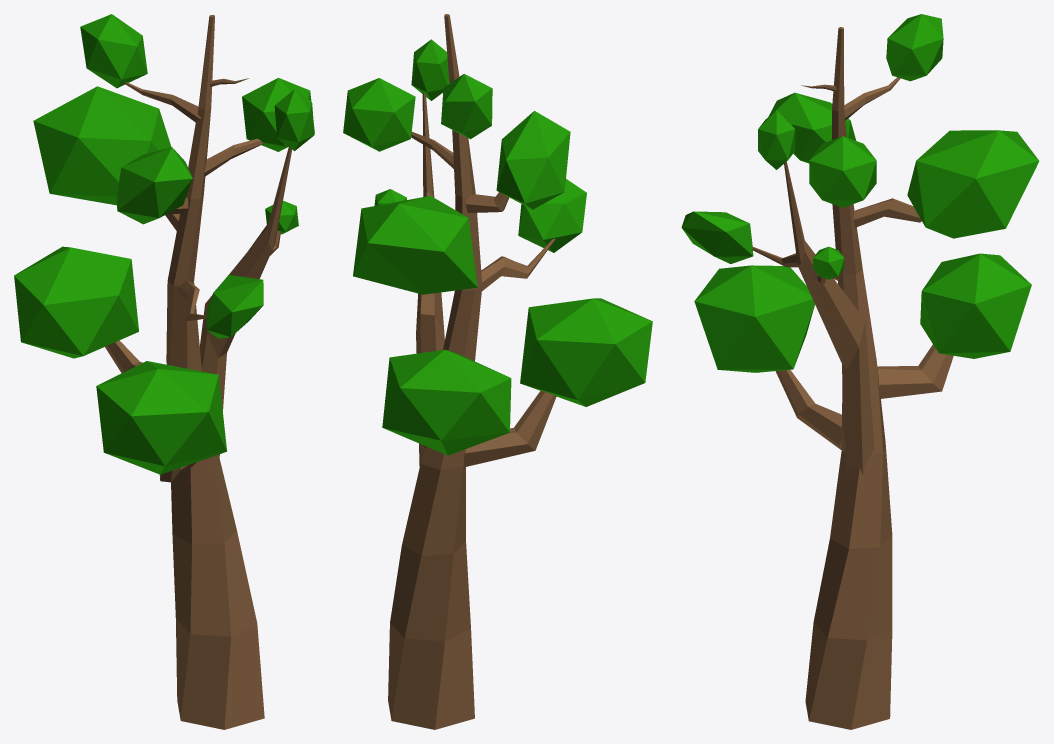
Rendered from LiveTree1.fbx.
3 renders of one model, left to right at view 1: azimuth 30°, elevation 25°; view 2: azimuth 150°, elevation 25°; view 3: azimuth 270°, elevation 25°, orthographic. The views are drawn at different scales.
Parts seen in each view (by area): view 1: Tree.005, Icosphere.053, Icosphere.054, Icosphere.050, Icosphere.048, Icosphere.049, Icosphere.047, Icosphere.051, Icosphere.046, Icosphere.052; view 2: Tree.005, Icosphere.053, Icosphere.054, Icosphere.050, Icosphere.048, Icosphere.051, Icosphere.047, Icosphere.049, Icosphere.046; view 3: Tree.005, Icosphere.050, Icosphere.053, Icosphere.054, Icosphere.051, Icosphere.049, Icosphere.047, Icosphere.048, Icosphere.046, Icosphere.052.
Boxes of the visible parts, x1,y1,x2,y2 form: Tree.005: (105, 15, 291, 729); Icosphere.053: (96, 361, 226, 474); Icosphere.054: (14, 246, 138, 358); Icosphere.050: (33, 86, 171, 205); Icosphere.048: (117, 147, 192, 224); Icosphere.049: (80, 14, 147, 88); Icosphere.047: (206, 275, 263, 338); Icosphere.051: (242, 78, 314, 151); Icosphere.046: (274, 89, 314, 151); Icosphere.052: (265, 200, 298, 234); Tree.005: (388, 14, 556, 729); Icosphere.053: (520, 298, 652, 406); Icosphere.054: (382, 349, 511, 455); Icosphere.050: (353, 196, 477, 294); Icosphere.048: (496, 111, 570, 209); Icosphere.051: (343, 78, 415, 151); Icosphere.047: (518, 179, 586, 252); Icosphere.049: (441, 74, 492, 139); Icosphere.046: (411, 39, 449, 100); Tree.005: (752, 27, 953, 729); Icosphere.050: (907, 130, 1039, 238); Icosphere.053: (694, 265, 814, 372); Icosphere.054: (920, 253, 1031, 358); Icosphere.051: (809, 136, 876, 207); Icosphere.049: (886, 14, 943, 81); Icosphere.047: (681, 211, 753, 263); Icosphere.048: (768, 92, 856, 163); Icosphere.046: (758, 110, 795, 169); Icosphere.052: (813, 246, 844, 279).
Bounding box in the file's own units: 340 × 897 × 430.
